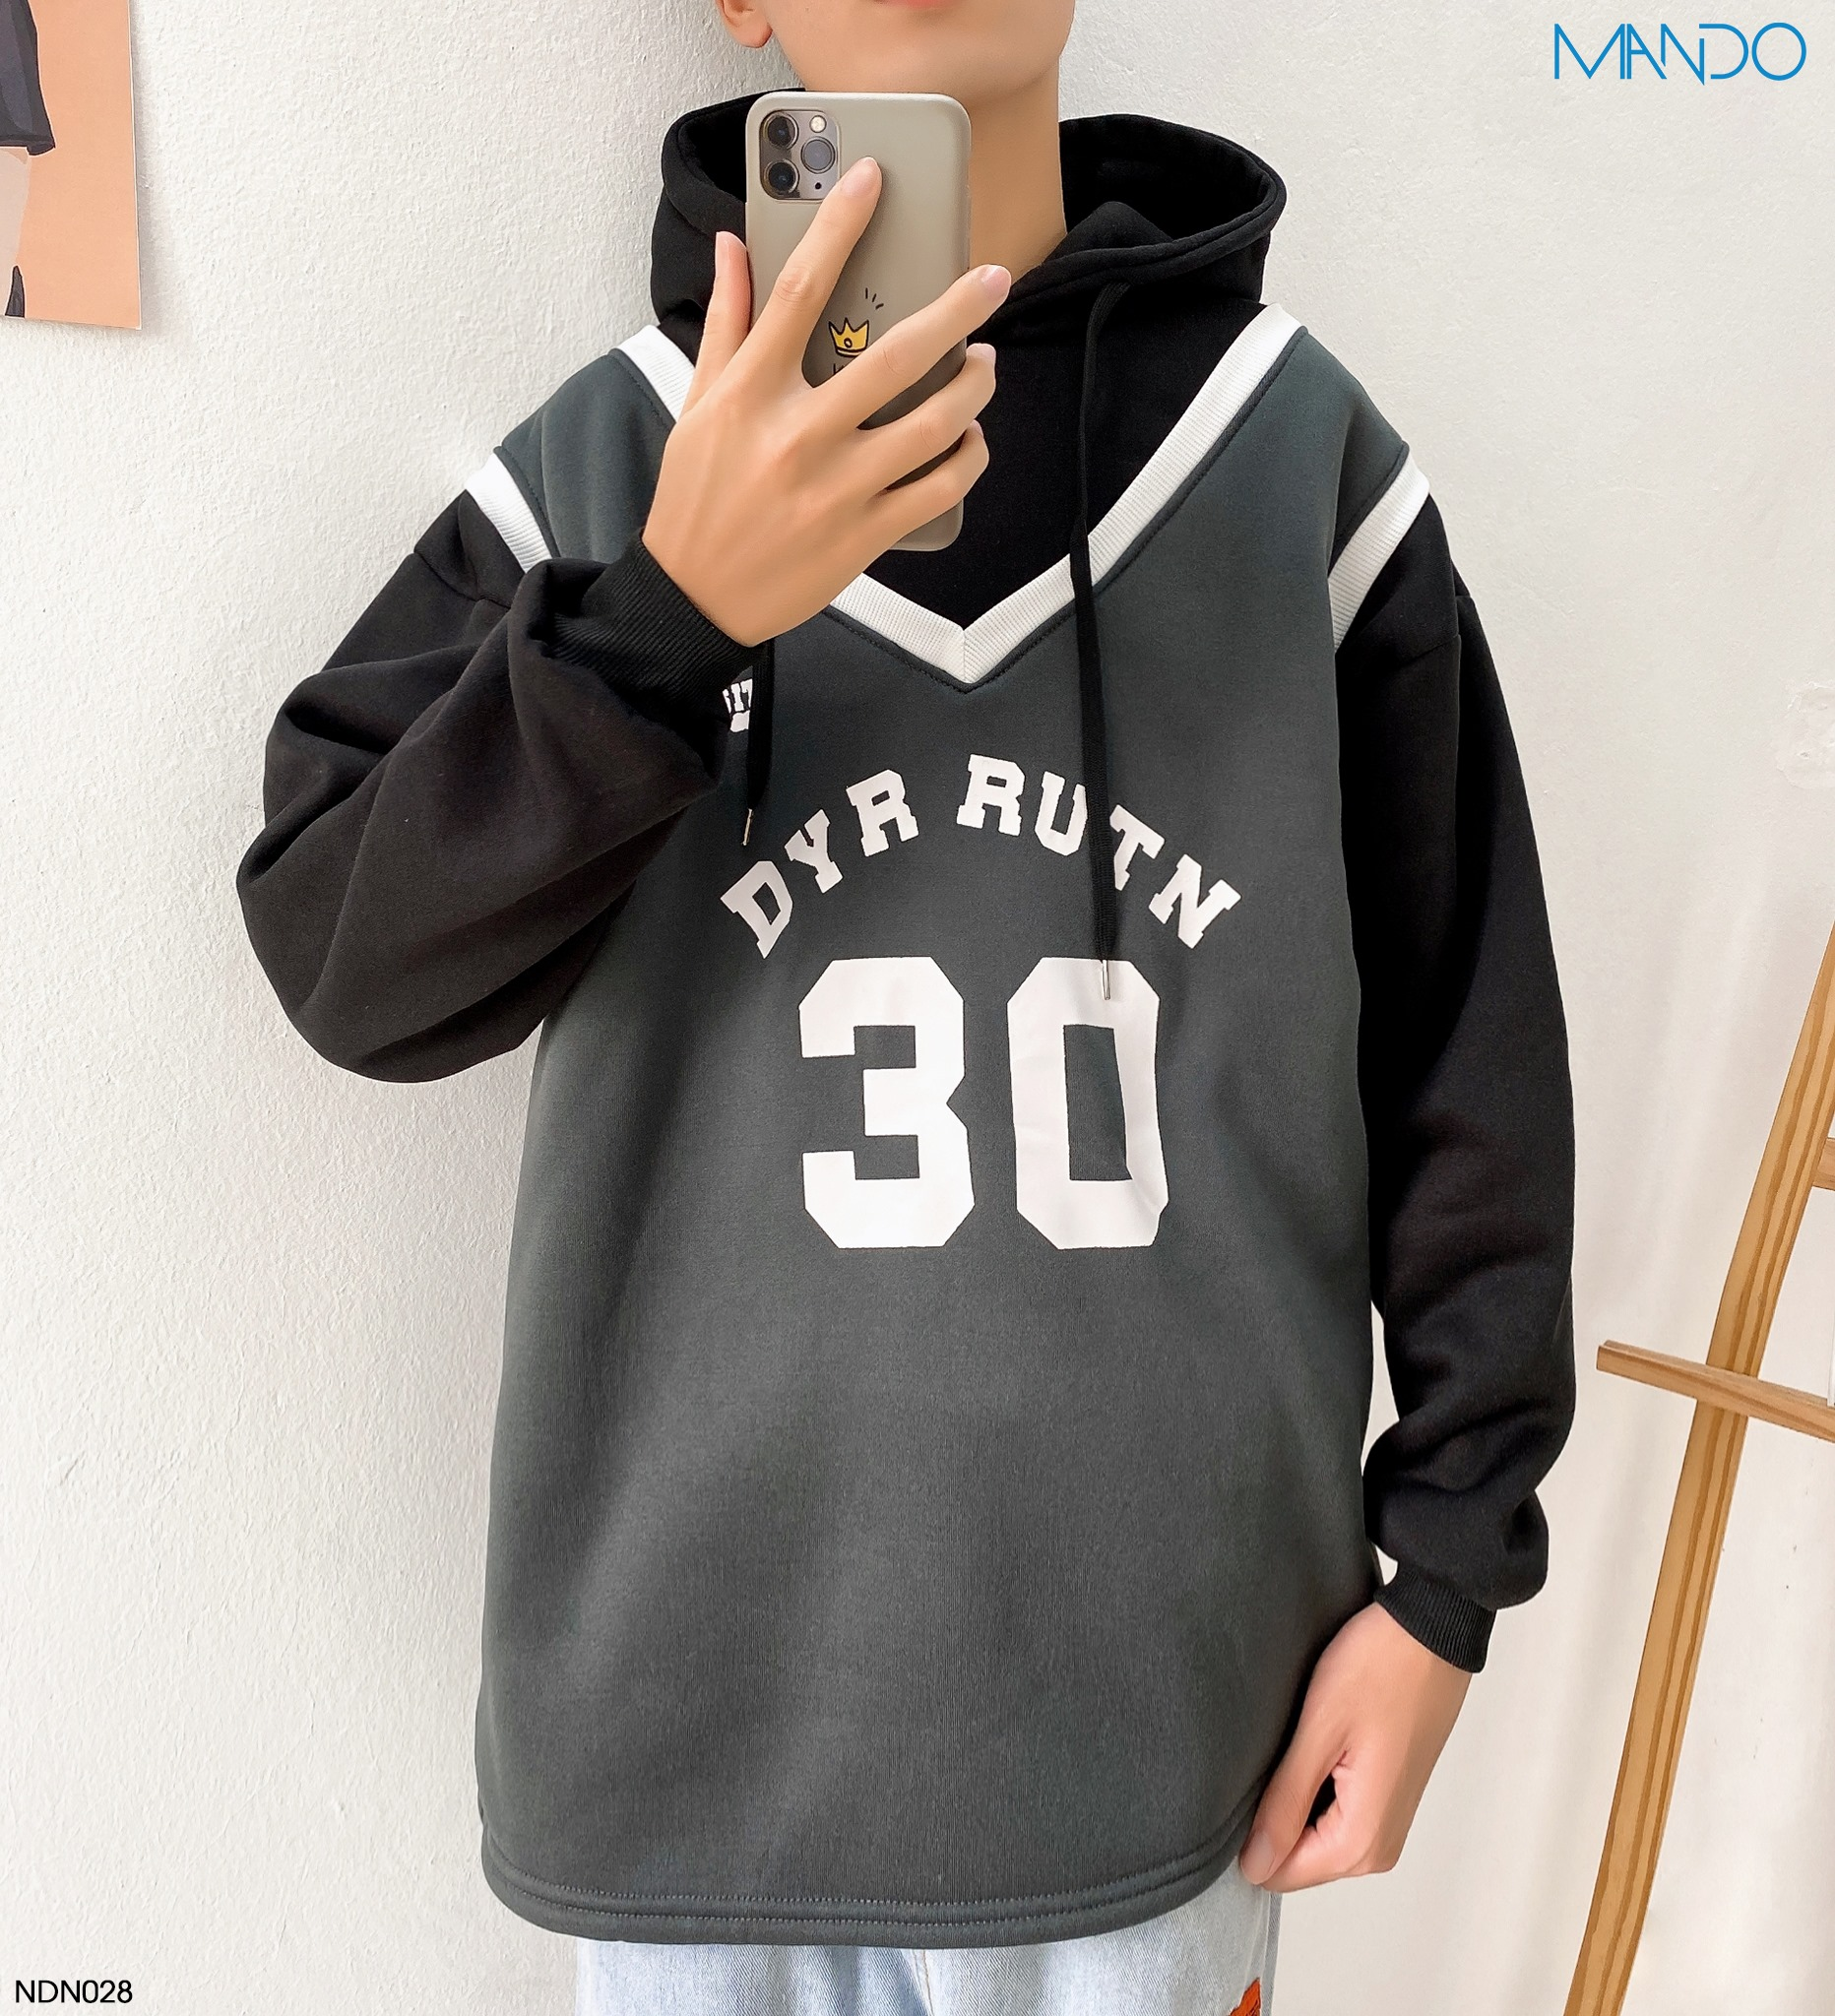person: (237, 6, 1582, 2016)
